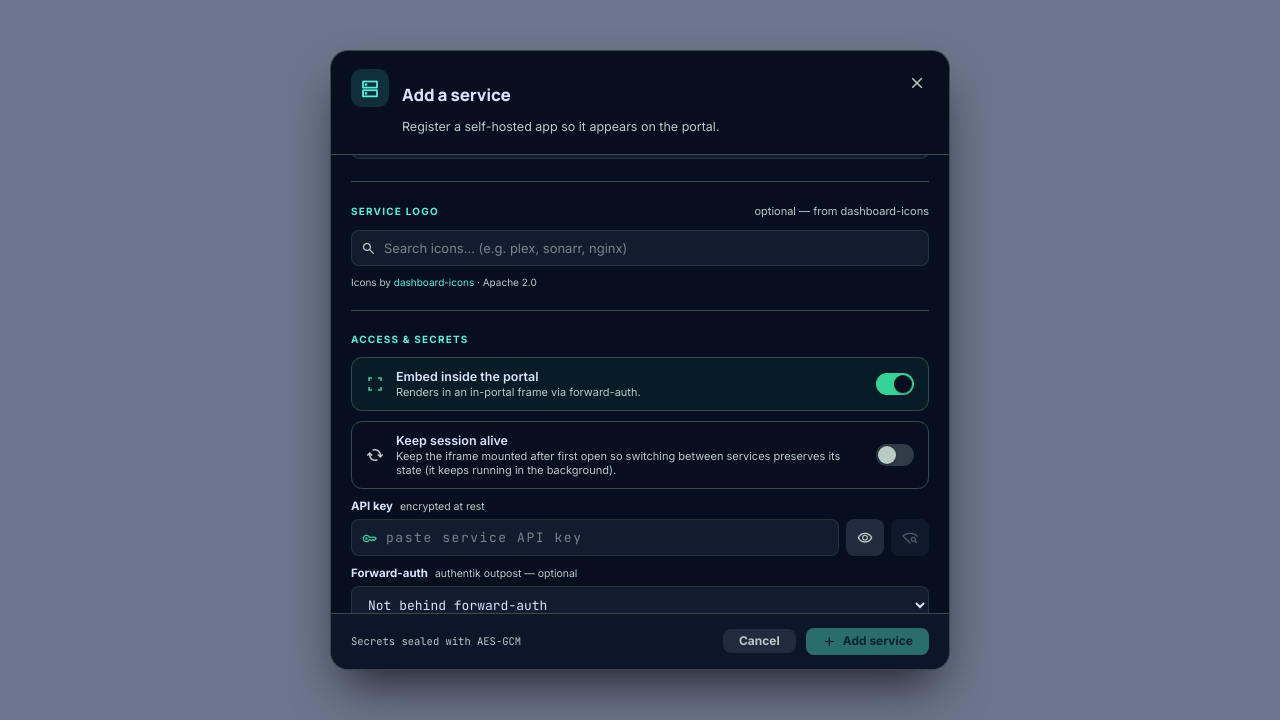
Test: ServiceModal — add mode › toggles the embeddable / keep-alive section
(page scrolled)
Expected: the text "Keep session alive" is shown, x1=396 y1=433 x2=508 y2=448
Click the button named "Embed inside the portal" at coordinates (895, 384), box x1=876 y1=373 x2=914 y2=395
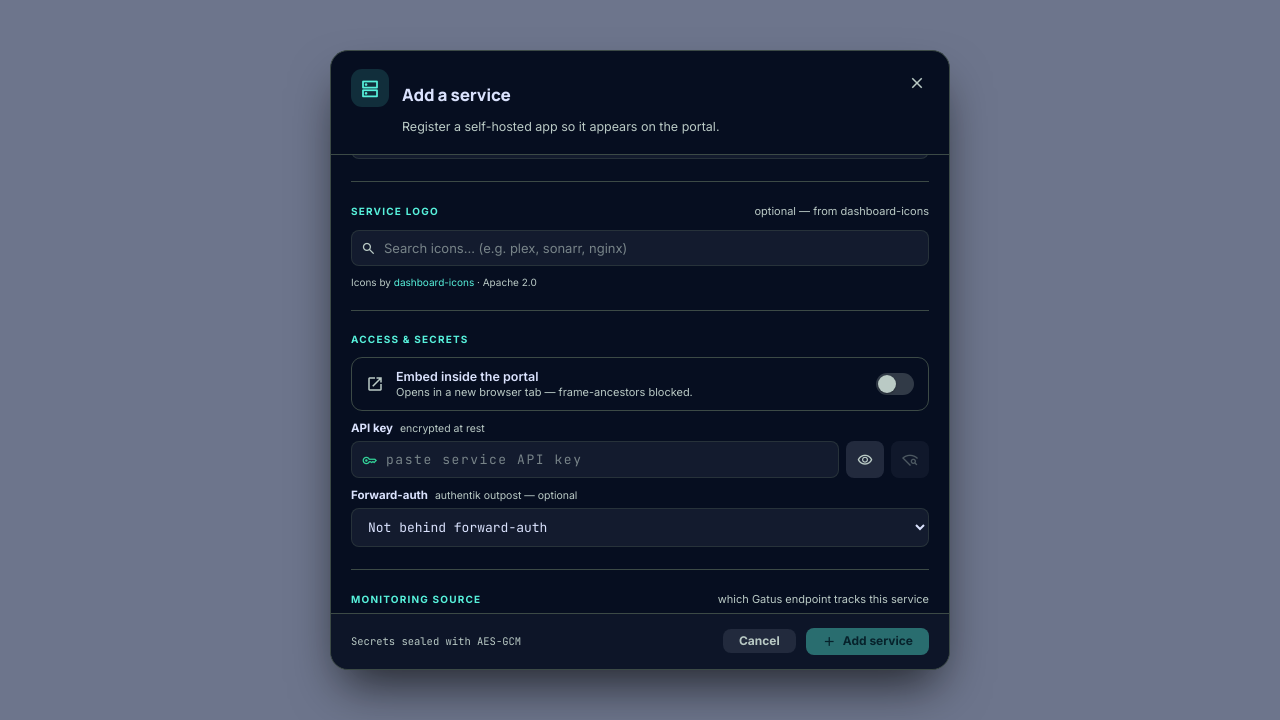
Expected: the text "Keep session alive" is gone
